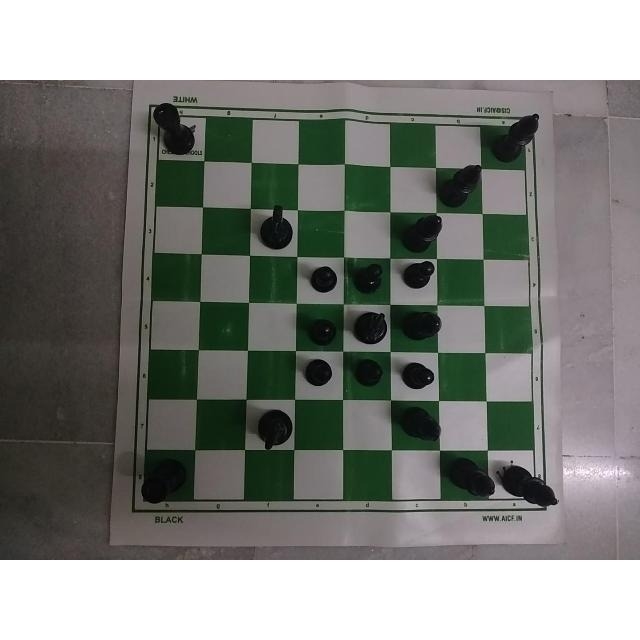black-bishop: (500, 452, 560, 513), (489, 108, 545, 169), (434, 156, 492, 208), (444, 454, 496, 510), (387, 403, 443, 450), (392, 208, 447, 250), (398, 308, 450, 344)
black-knight: (254, 203, 298, 254), (246, 409, 294, 453), (347, 304, 391, 348)
black-pawn: (398, 252, 441, 292), (304, 255, 344, 295), (301, 350, 337, 394), (395, 354, 438, 390), (349, 260, 386, 300), (347, 352, 388, 388), (304, 313, 338, 344)
black-rook: (135, 449, 187, 510), (150, 97, 200, 157)
